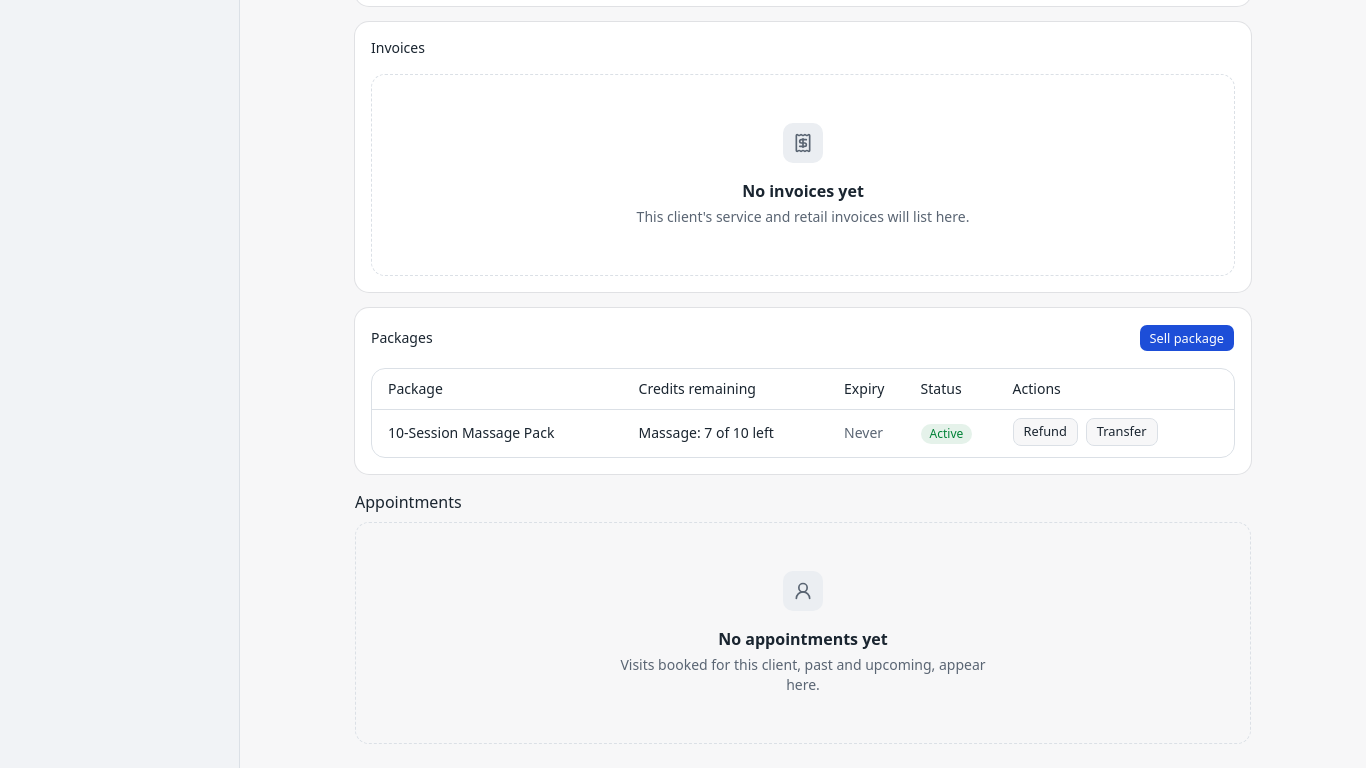
the override checkbox appears only for a non-transferable package
(page scrolled)
Expected: the table named "Packages" is shown, [372,369,1234,457]
Step 1. Click the button "Transfer" → (1122, 432), box [1086,418,1158,446]
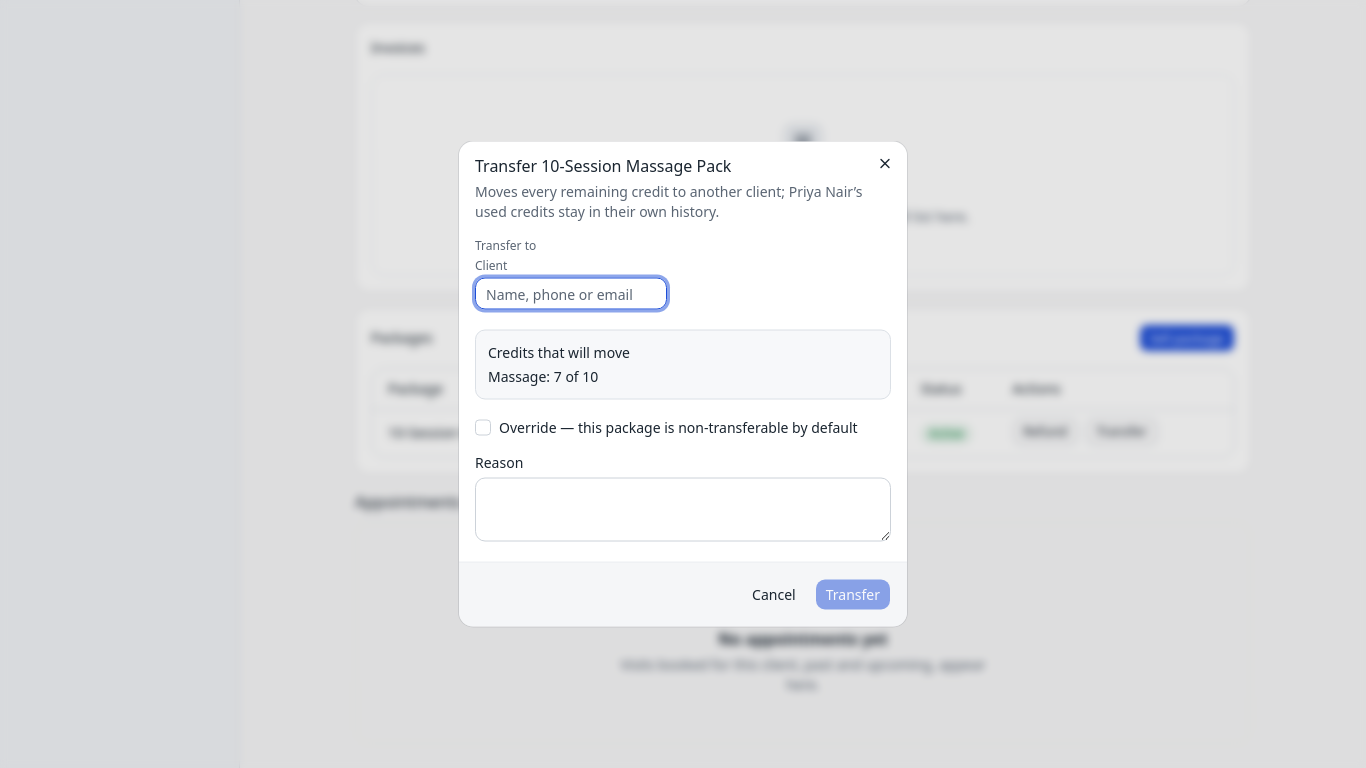
Now the checkbox named "non-transferable by default" is shown, box [475,420,491,436]
